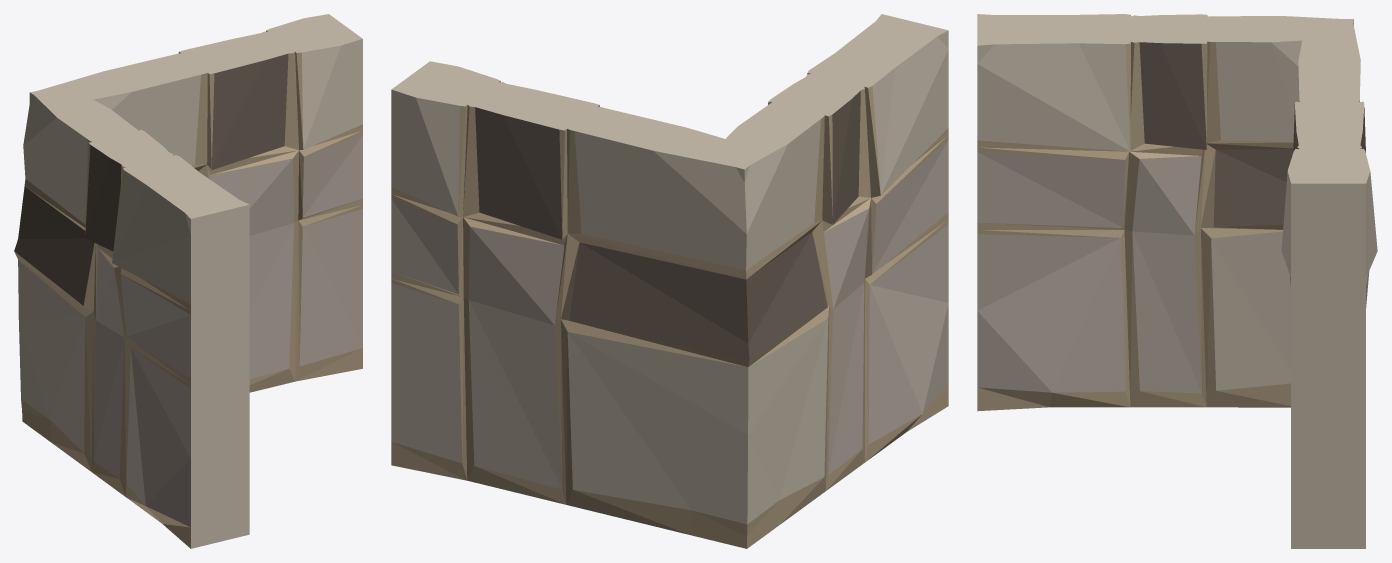
Rendered from RG-Dungeon_Corner-small_wall-04.fbx.
3 renders of one model, left to right at view 1: azimuth 30°, elevation 25°; view 2: azimuth 150°, elevation 25°; view 3: azimuth 270°, elevation 25°, orthographic. The views are drawn at different scales.
Visible parts, largest first — view 1: RG-Dungeon_Corner-small_wall-04; view 2: RG-Dungeon_Corner-small_wall-04; view 3: RG-Dungeon_Corner-small_wall-04.
Boxes of the visible parts, x1,y1,x2,y2 form: RG-Dungeon_Corner-small_wall-04: (14, 14, 362, 548); RG-Dungeon_Corner-small_wall-04: (391, 14, 948, 548); RG-Dungeon_Corner-small_wall-04: (977, 14, 1377, 548).
Bounding box in the file's own units: 10.36 × 10.05 × 9.98.
